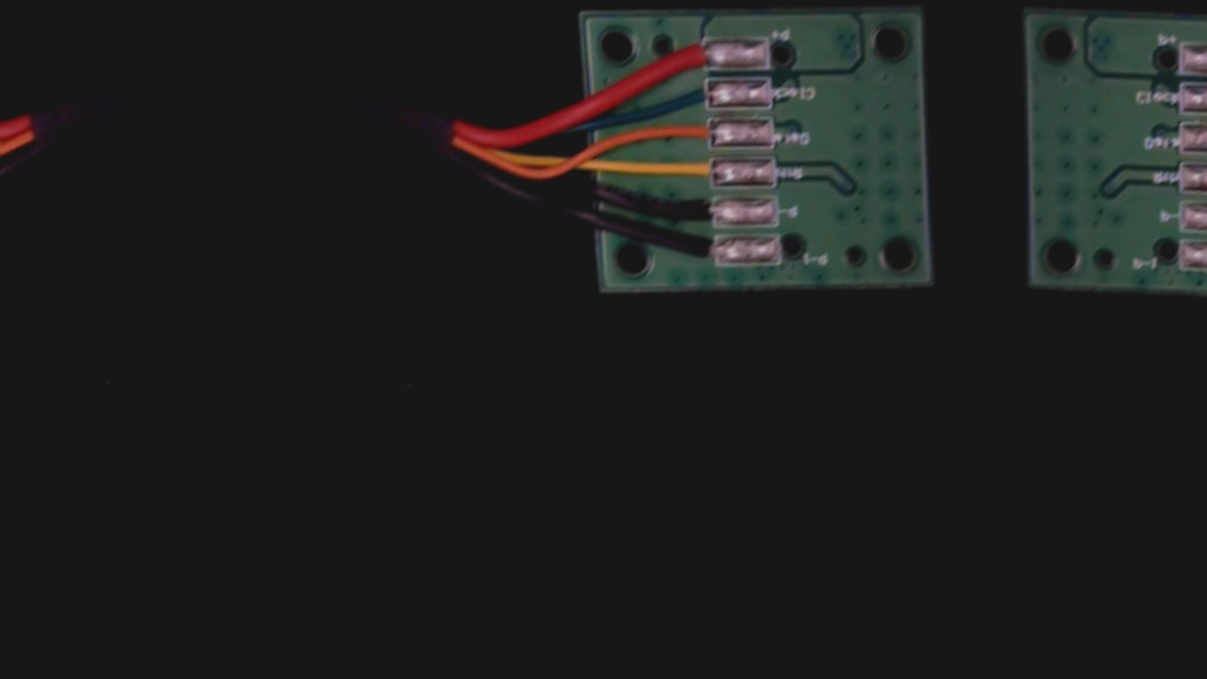Black: (662, 196, 727, 228)
Black1: (660, 235, 730, 268)
Green: (668, 78, 725, 110)
Orange: (659, 116, 726, 150)
Red: (655, 37, 721, 73)
Yellow: (661, 157, 728, 189)
